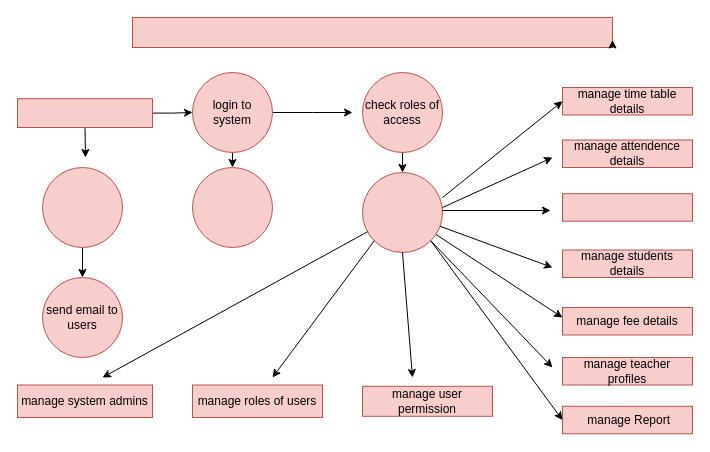
This 710x452 diagram has some shape labels left out. Each missing label, with the box of its shape:
Admin: (16, 98, 152, 128)
check credentials: (192, 166, 272, 248)
forget password: (42, 166, 122, 248)
manage class details: (562, 193, 692, 221)
manage modules: (362, 172, 442, 252)
Student Information system: (132, 16, 612, 48)
